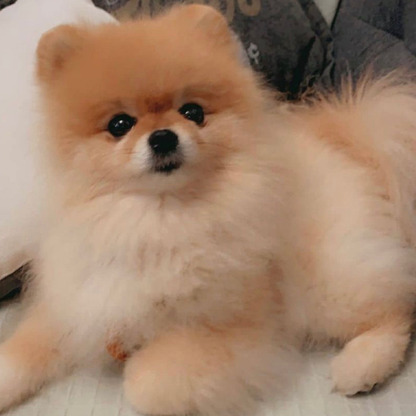Pomeranian: (22, 17, 382, 403)
